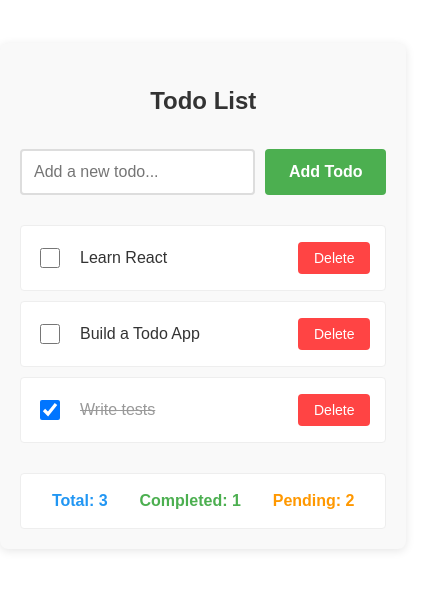
Test: TodoList Component › adds a new todo when form is submitted
The width and height of the screenshot is (424, 607).
Type "New Todo Item" into the field with test id "todo-input". click: (138, 172)
box: left=20, top=149, right=255, bottom=195
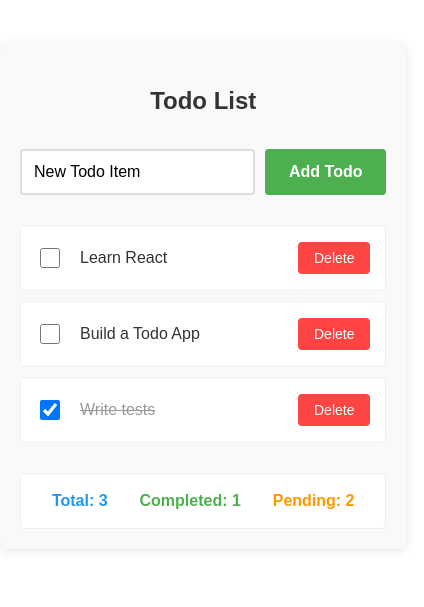
Click the button with test id "add-button". click: (326, 172)
box: left=265, top=149, right=386, bottom=195
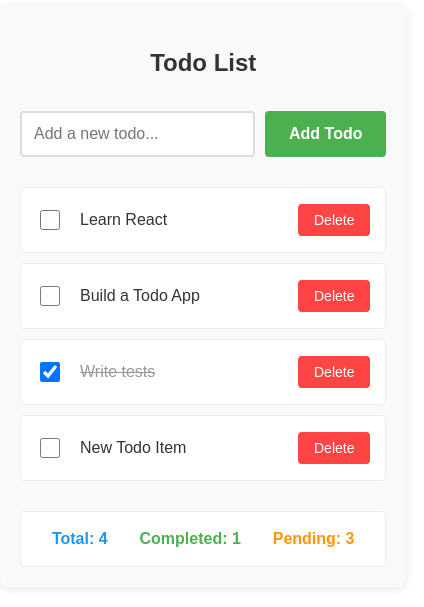
Check: the text "New Todo Item" is shown, box left=80, top=439, right=186, bottom=456
Check: the text "Total: 4" is shown, box left=52, top=527, right=108, bottom=551
Check: the text "Pending: 3" is shown, box left=273, top=527, right=354, bottom=551
